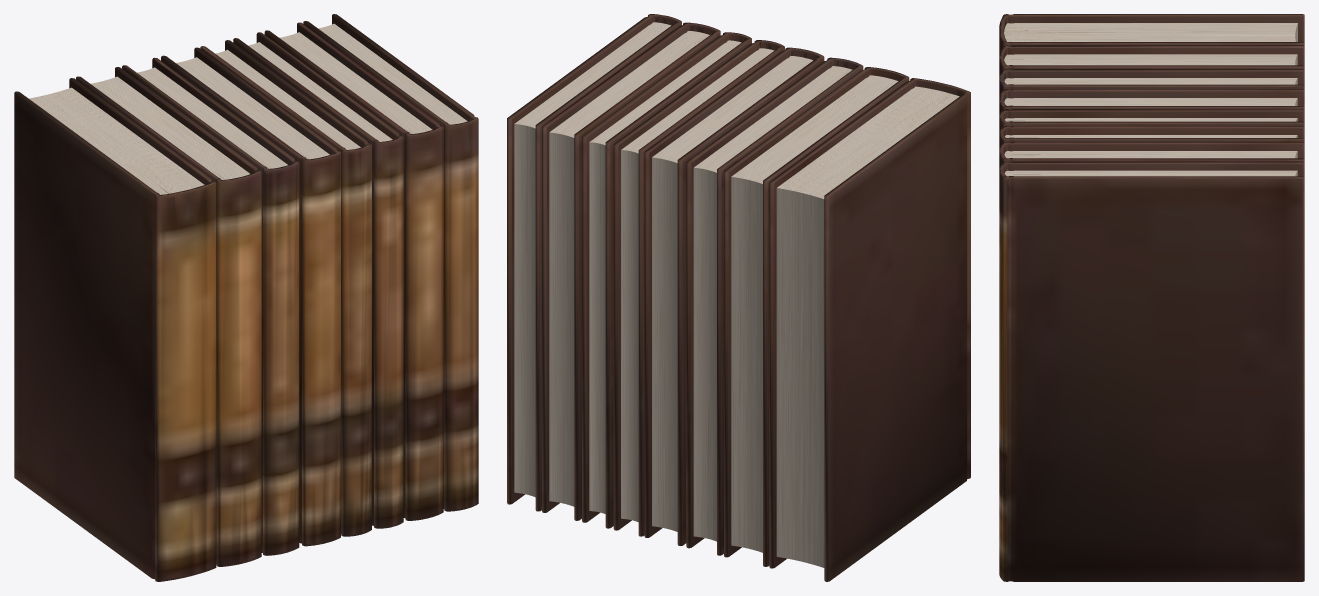
The model's file is ph-book-encyclopedia-set-01.lod1.glb.
3 renders of one model, left to right at view 1: azimuth 30°, elevation 25°; view 2: azimuth 150°, elevation 25°; view 3: azimuth 270°, elevation 25°, orthographic. The views are drawn at different scales.
Visible parts, largest first — view 1: book_encyclopedia_set_01_book01, book_encyclopedia_set_01_book02, book_encyclopedia_set_01_book04, book_encyclopedia_set_01_book07, book_encyclopedia_set_01_book03, book_encyclopedia_set_01_book08, book_encyclopedia_set_01_book06, book_encyclopedia_set_01_book05; view 2: book_encyclopedia_set_01_book01, book_encyclopedia_set_01_book02, book_encyclopedia_set_01_book04, book_encyclopedia_set_01_book07, book_encyclopedia_set_01_book03, book_encyclopedia_set_01_book08, book_encyclopedia_set_01_book06, book_encyclopedia_set_01_book05; view 3: book_encyclopedia_set_01_book08, book_encyclopedia_set_01_book01, book_encyclopedia_set_01_book02, book_encyclopedia_set_01_book03, book_encyclopedia_set_01_book04, book_encyclopedia_set_01_book07, book_encyclopedia_set_01_book05, book_encyclopedia_set_01_book06.
Part boxes in pixels (x1,y1,x2,y2): book_encyclopedia_set_01_book01: (14,78,216,581); book_encyclopedia_set_01_book02: (76,67,261,566); book_encyclopedia_set_01_book04: (161,47,340,546); book_encyclopedia_set_01_book07: (264,22,443,520); book_encyclopedia_set_01_book03: (122,57,299,555); book_encyclopedia_set_01_book08: (303,14,478,511); book_encyclopedia_set_01_book06: (233,32,403,528); book_encyclopedia_set_01_book05: (200,40,371,536); book_encyclopedia_set_01_book01: (769,78,970,581); book_encyclopedia_set_01_book02: (724,67,909,566); book_encyclopedia_set_01_book04: (644,47,824,545); book_encyclopedia_set_01_book07: (542,22,720,520); book_encyclopedia_set_01_book03: (686,57,863,555); book_encyclopedia_set_01_book08: (507,14,681,511); book_encyclopedia_set_01_book06: (582,32,751,528); book_encyclopedia_set_01_book05: (613,40,784,536); book_encyclopedia_set_01_book08: (999,161,1304,581); book_encyclopedia_set_01_book01: (999,14,1304,53); book_encyclopedia_set_01_book02: (999,45,1304,75); book_encyclopedia_set_01_book03: (999,69,1304,96); book_encyclopedia_set_01_book04: (999,89,1304,114); book_encyclopedia_set_01_book07: (999,142,1304,167); book_encyclopedia_set_01_book05: (999,109,1304,131); book_encyclopedia_set_01_book06: (999,126,1304,148).
Size of the model in its own units: 0.2081 by 0.2374 by 0.1631.
Materials: 2 (2 with a texture image).
